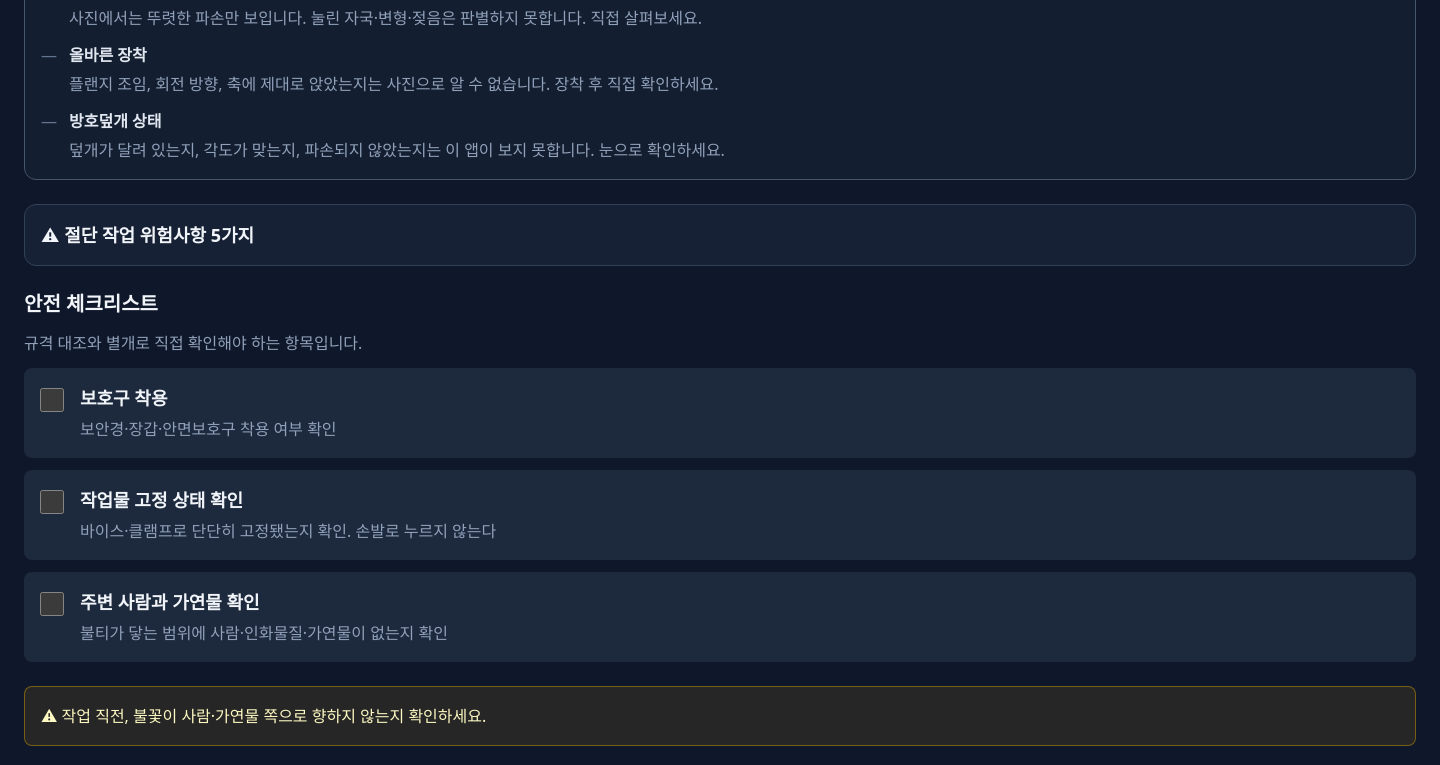
it: 결과 화면 — 새로고침으로 되살아난 값 › 어긋난 시험운전 타이머(빈 객체)는 끝난 것으로 읽히지 않고 처음부터 다시 묻는다
The image size is (1440, 765).
(page scrolled)
Click the checkbox labelled "보호구 착용 보안경·장갑·안면보호구 착용 여부 확인": (52, 400) 40,388 -> 64,412
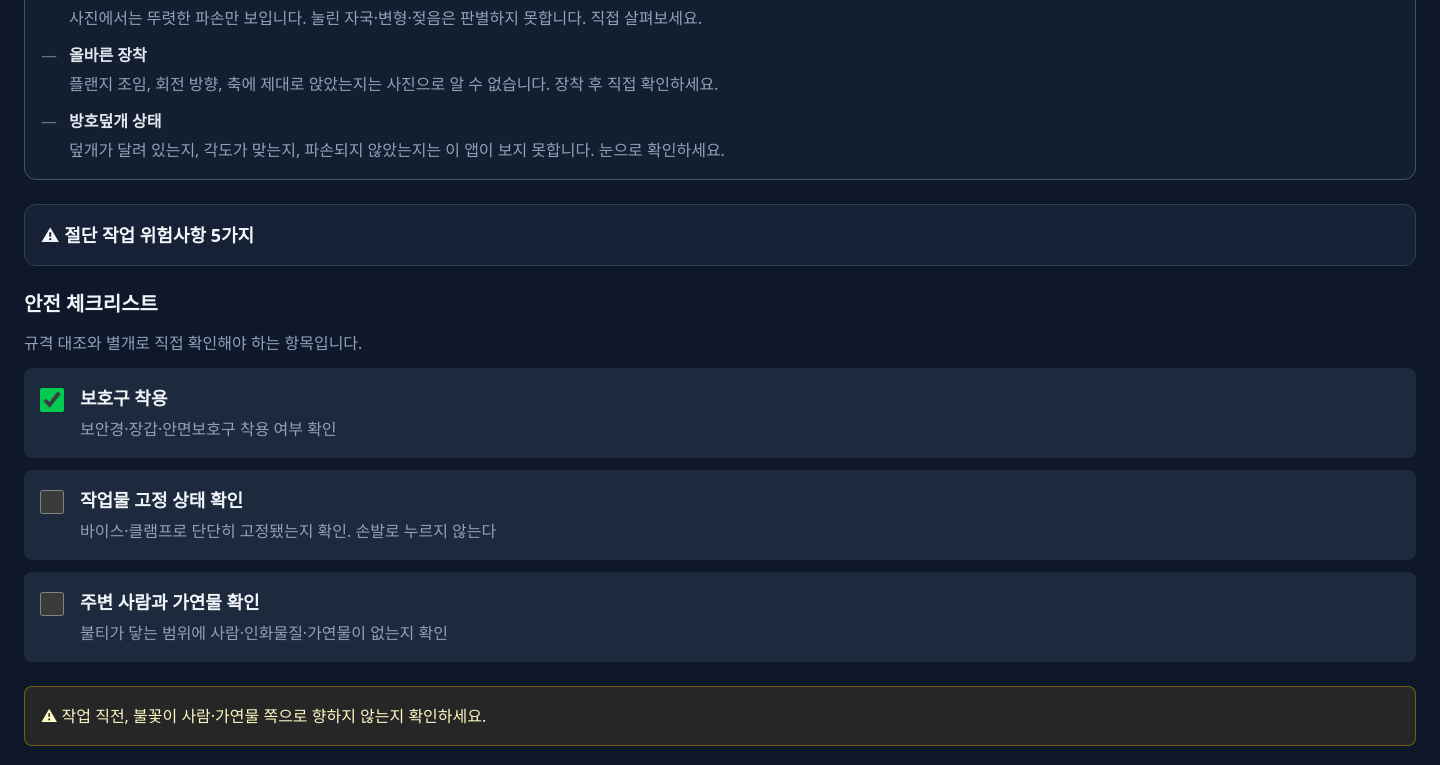
Click the checkbox labelled "작업물 고정 상태 확인 바이스·클램프로 단단히 고정됐는지 확인. 손발로 누르지 않는다": (52, 502) 40,490 -> 64,514
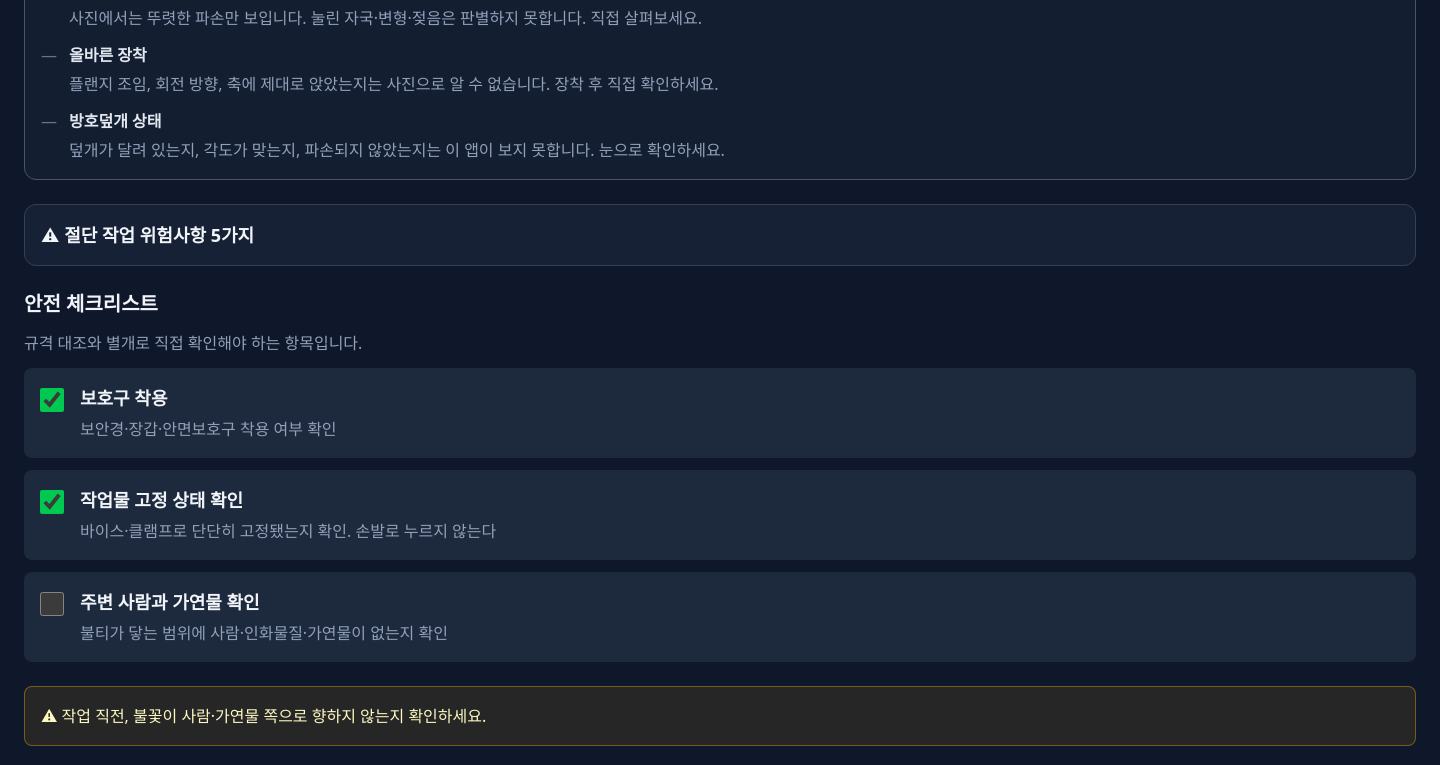
Click the checkbox labelled "주변 사람과 가연물 확인 불티가 닿는 범위에 사람·인화물질·가연물이 없는지 확인": (52, 604) 40,592 -> 64,616
(page scrolled)
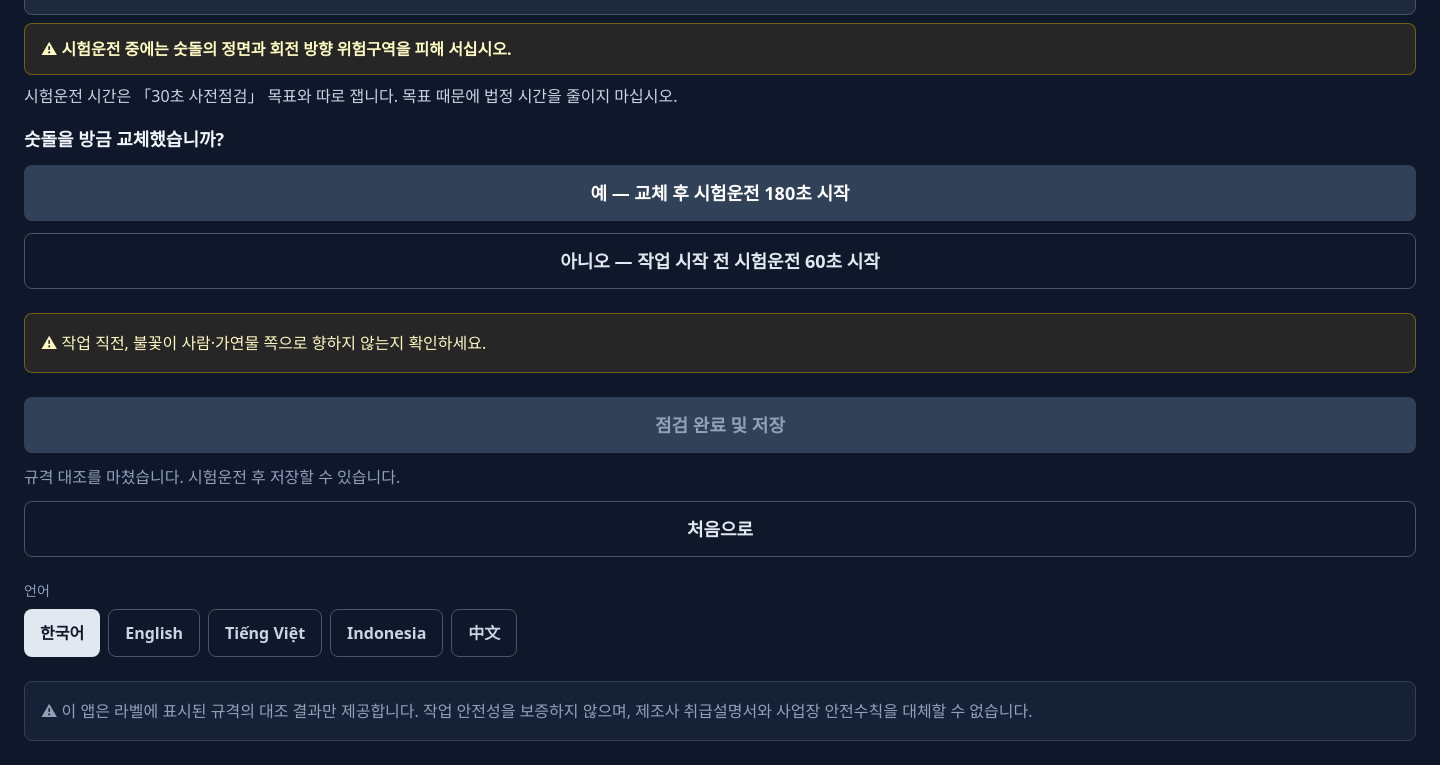
expect the button "점검 완료 및 저장" is disabled: met, box 24,397 -> 1416,453
expect the text "숫돌을 방금 교체했습니까?" is shown: met, box 24,127 -> 224,151
